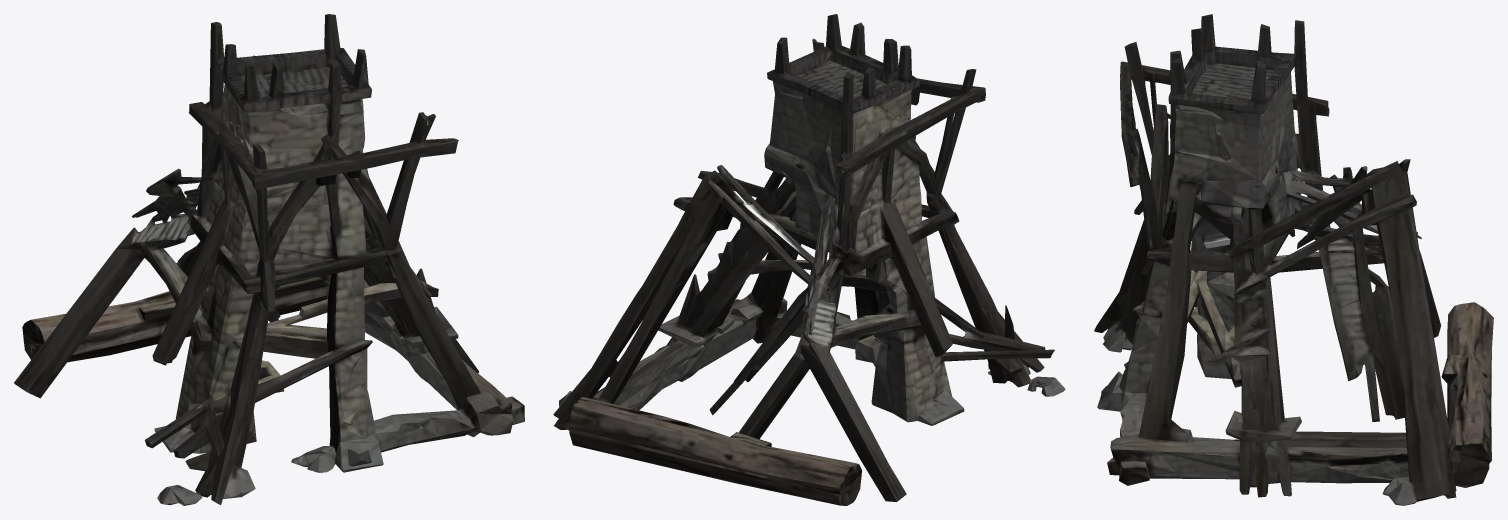
File: war_trebuchet_wreck_01.glb
The picture shows the model from 3 angles, left to right: view 1: azimuth 30°, elevation 25°; view 2: azimuth 150°, elevation 25°; view 3: azimuth 270°, elevation 25°; orthographic projection. The views are drawn at different scales.
Visible parts, largest first — view 1: geometry_0; view 2: geometry_0; view 3: geometry_0.
Boxes of the visible parts, <box> form: geometry_0: <box>14,14,524,505</box>; geometry_0: <box>553,14,1065,505</box>; geometry_0: <box>1094,14,1493,505</box>.
Bounding box in the file's own units: 0.9999 × 0.9208 × 0.8878.
1 material, 1 textured.
